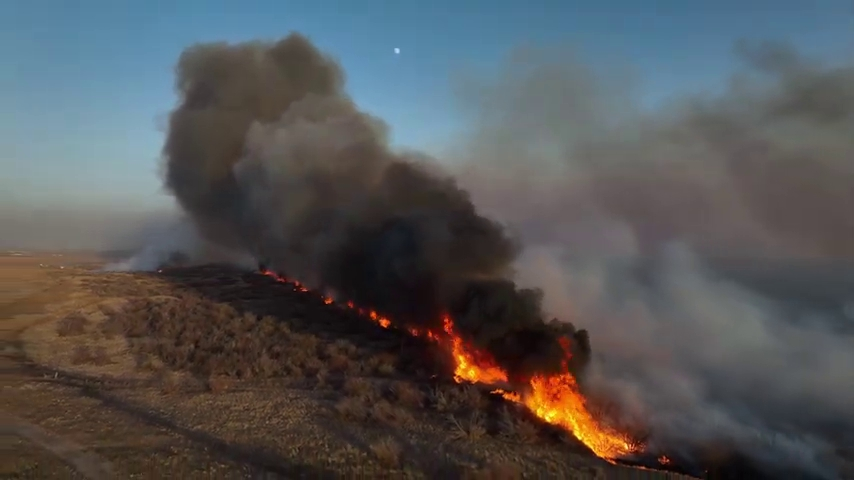forest_fire: (492, 372, 641, 459), (406, 315, 507, 384), (322, 296, 395, 326), (261, 267, 308, 290), (566, 348, 569, 359)
